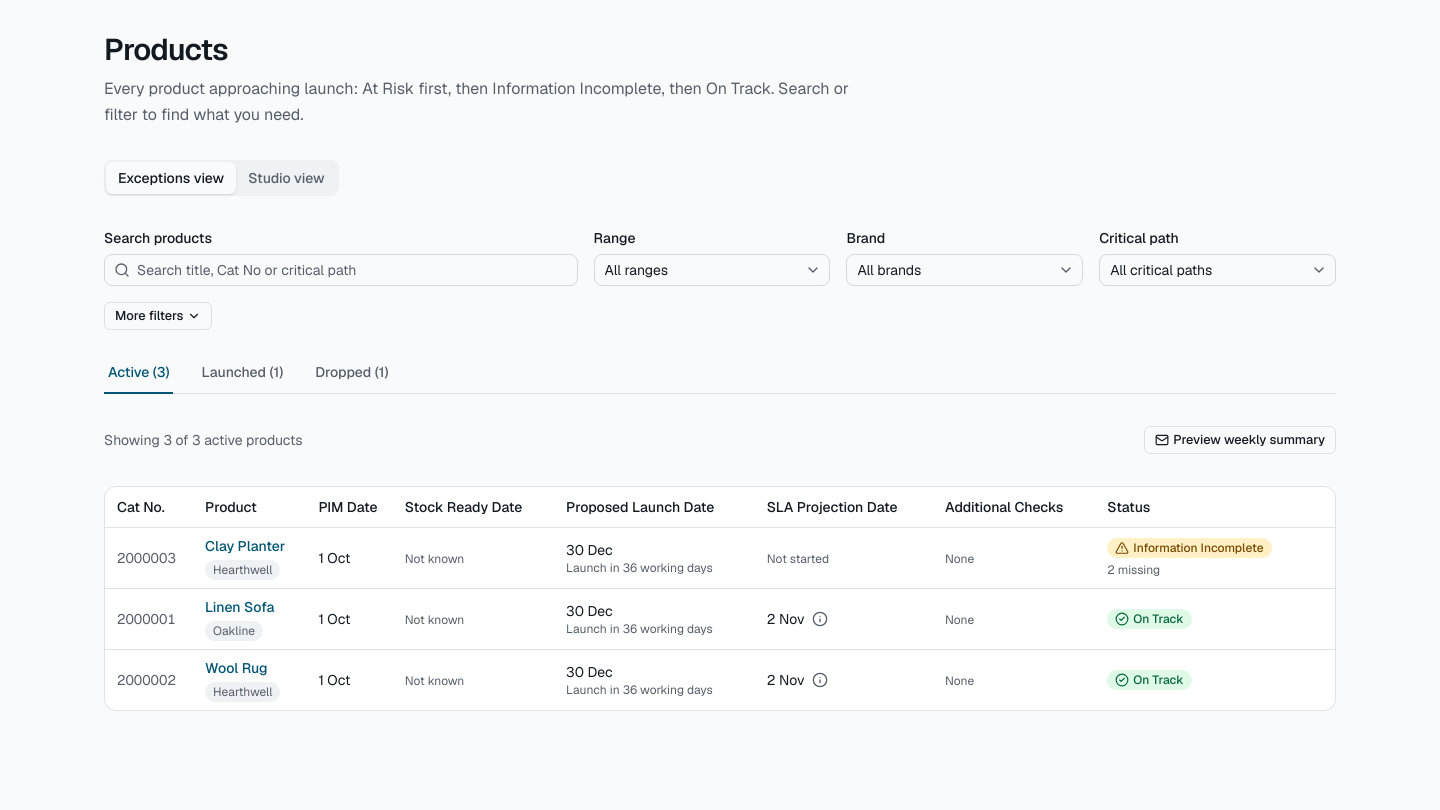
Test: ProductsView range, critical path and tabs › filters by range, offering every range and the unassigned ones
Click the dropdown labelled "range" at (712, 270), box top-left (594, 254), bottom-right (830, 286)
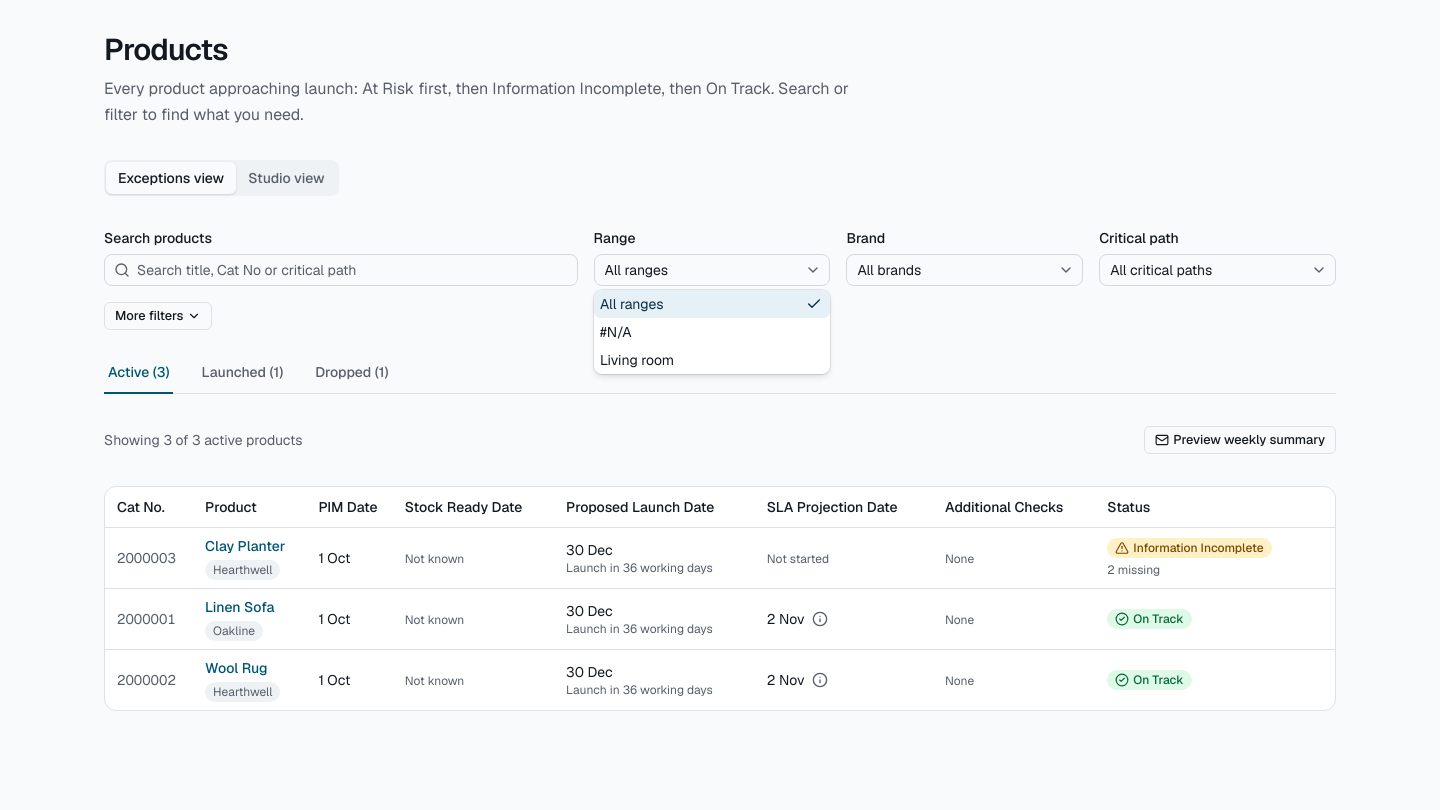
Now the number of options is 3
Click the option "Living room" at (637, 360), box top-left (600, 351), bottom-right (674, 369)
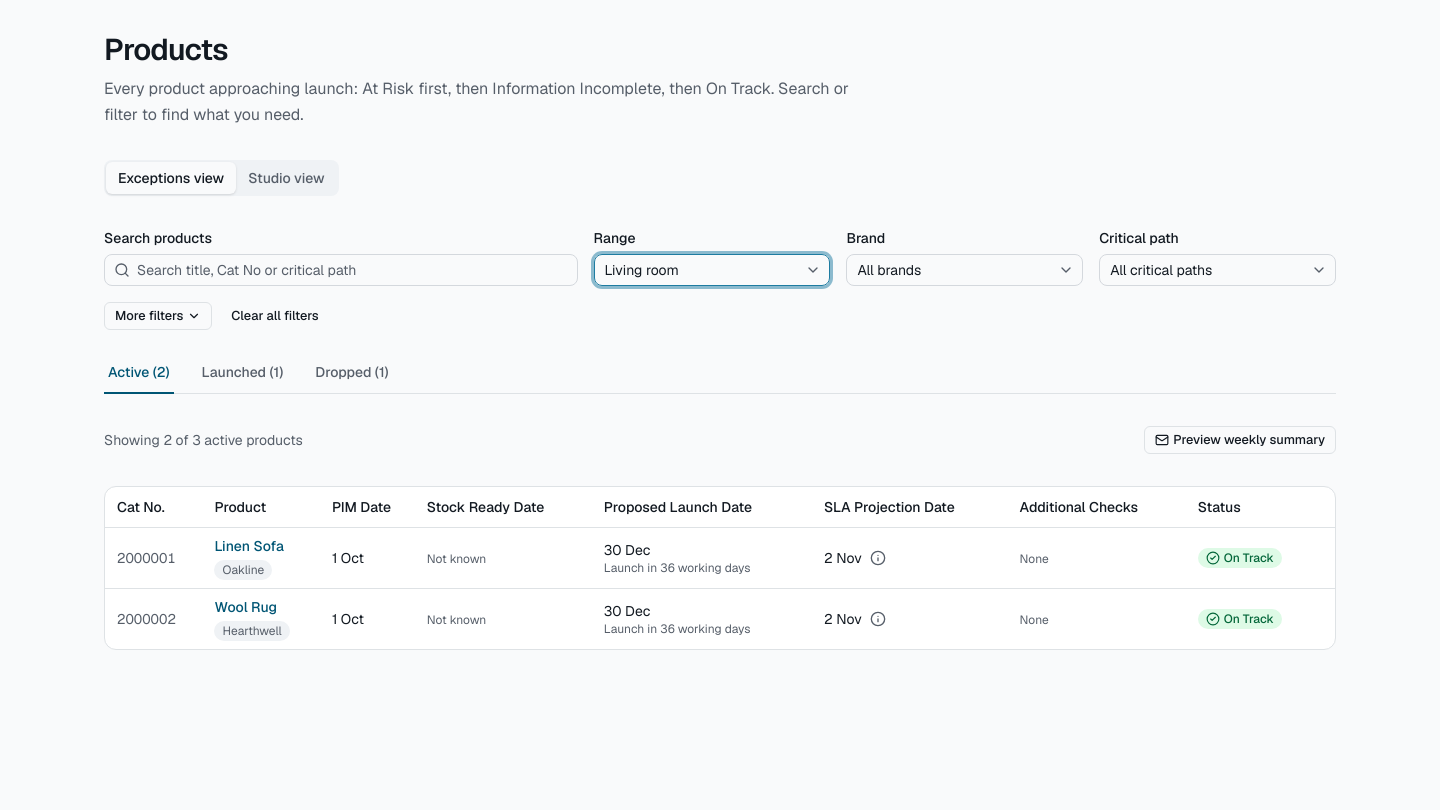
Now the text "Showing 2 of 3 active products" is shown, box top-left (104, 430), bottom-right (303, 450)
